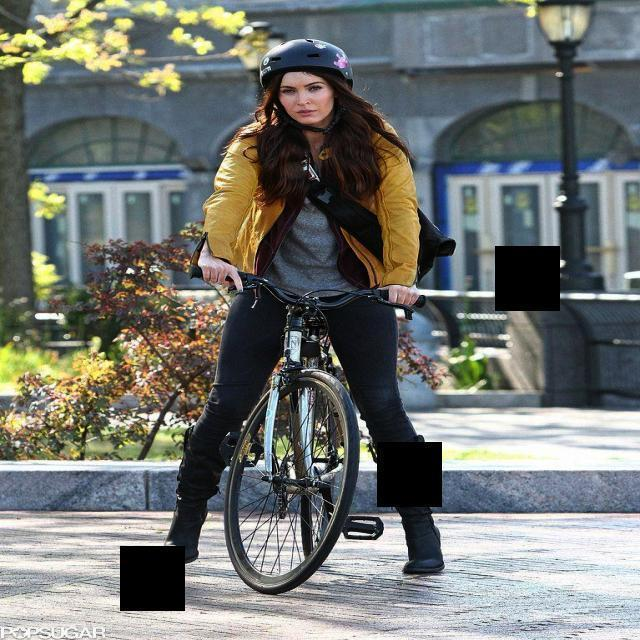helmet: (256, 42, 354, 138)
